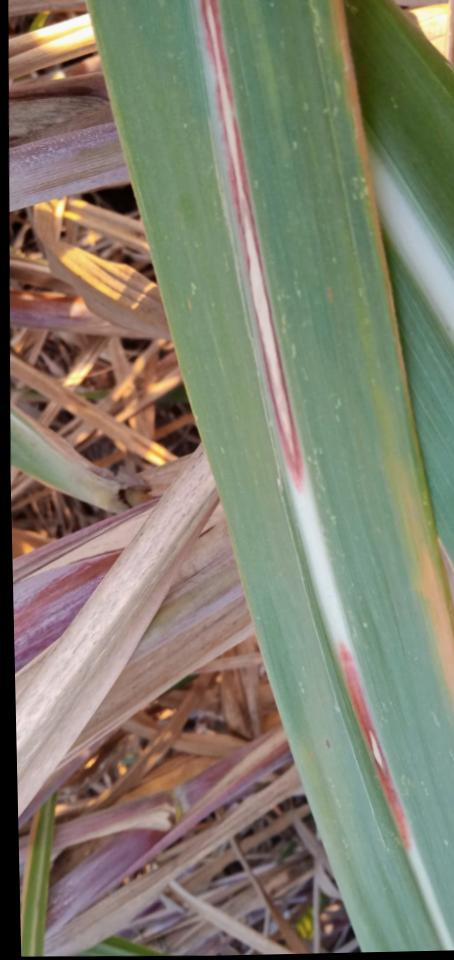RedRot: (200, 0, 304, 496), (338, 641, 413, 852)
